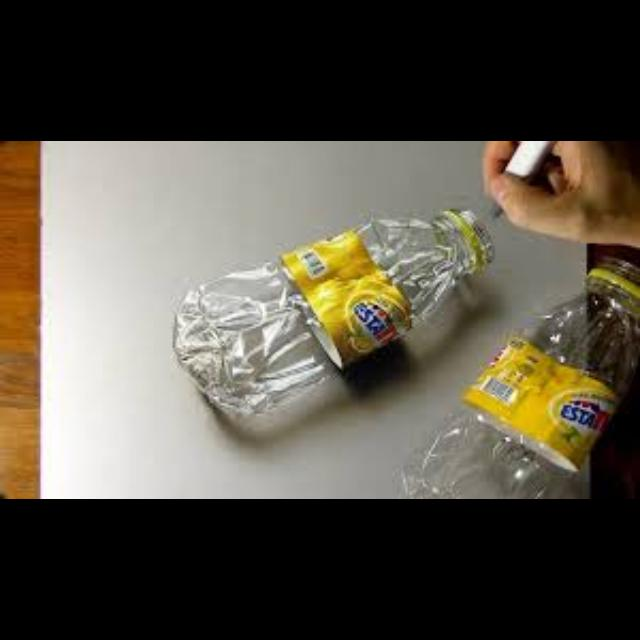trash: (158, 199, 516, 433), (393, 244, 640, 500)
